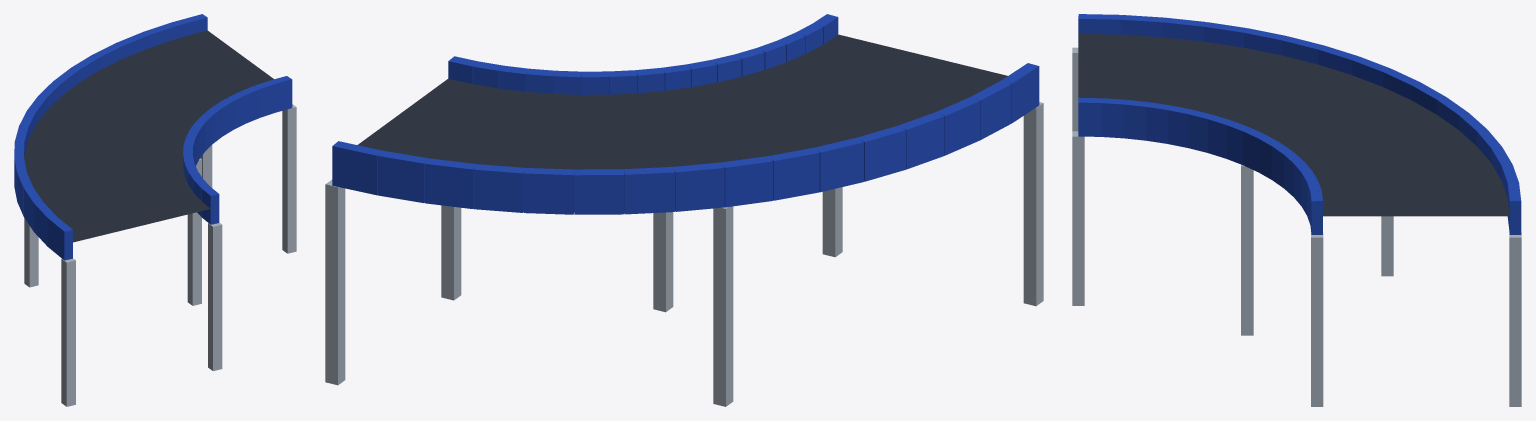
Rendered from SM_MPR_Turn__U33_Reflected.fbx.
3 renders of one model, left to right at view 1: azimuth 30°, elevation 25°; view 2: azimuth 150°, elevation 25°; view 3: azimuth 270°, elevation 25°, orthographic. The views are drawn at different scales.
Visible parts, largest first — view 1: SM_MPR_Turn__U33_Reflected; view 2: SM_MPR_Turn__U33_Reflected; view 3: SM_MPR_Turn__U33_Reflected.
Part boxes in pixels (x1=…): SM_MPR_Turn__U33_Reflected: x1=14, y1=14, x2=296, y2=406; SM_MPR_Turn__U33_Reflected: x1=325, y1=14, x2=1043, y2=406; SM_MPR_Turn__U33_Reflected: x1=1072, y1=14, x2=1521, y2=406.
Bounding box in the file's own units: 216 × 217 × 108.
